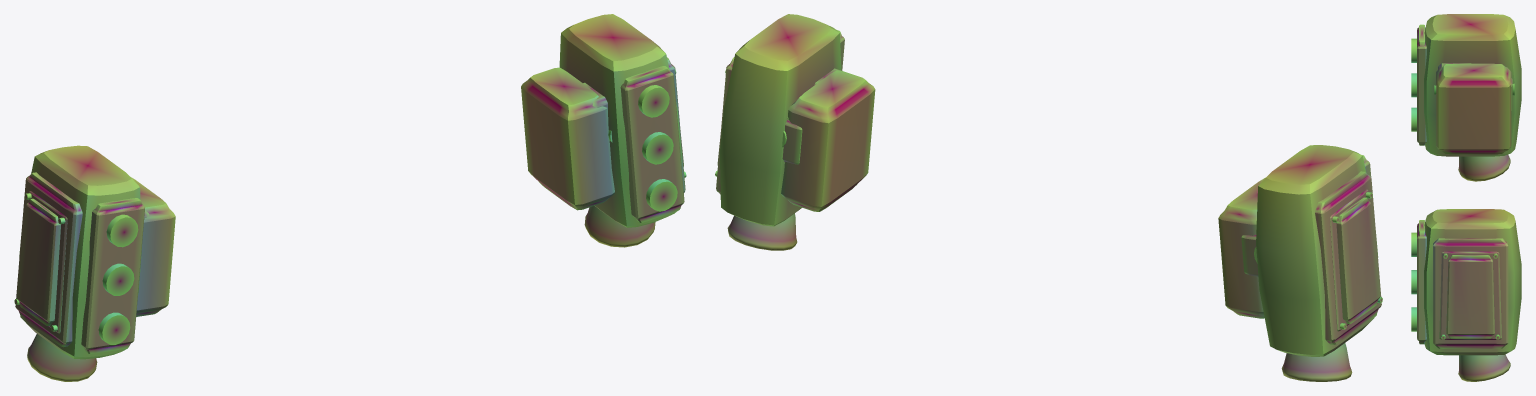
Rendered from llm_gen_leg_thrusters_056_a3c213.glb.
3 views of the same model, side by side, from view 1: azimuth 30°, elevation 25°; view 2: azimuth 150°, elevation 25°; view 3: azimuth 270°, elevation 25° (orthographic). The views are drawn at different scales.
Parts seen in each view (by area): view 1: adapter_calf_clamp_r, leg_missile_hull_0_titanium_silver_r, leg_missile_hull_0_titanium_silver_l, adapter_sub_missile_bezel_dark_1_adapter_dark_l, adapter_sub_missile_bezel_dark_1_adapter_dark_r, leg_pod_armor_cover_6_cobalt_anodized_l, adapter_calf_clamp_l, adapter_sub_side_frame_dark_5_adapter_dark_l, leg_ankle_bell_7_vernier_bell_vernier_l, leg_ankle_bell_7_vernier_bell_vernier_r, leg_cell_top_2_crimson_gloss_r, leg_cell_mid_3_crimson_gloss_r (+4 smaller); view 2: leg_missile_hull_0_titanium_silver_r, leg_missile_hull_0_titanium_silver_l, adapter_calf_clamp_r, leg_pod_armor_cover_6_cobalt_anodized_l, adapter_calf_clamp_l, adapter_sub_side_frame_dark_5_adapter_dark_l, leg_ankle_bell_7_vernier_bell_vernier_l, leg_ankle_bell_7_vernier_bell_vernier_r, adapter_leg_tank_collar_dark_9_adapter_dark_r, adapter_leg_tank_collar_dark_9_adapter_dark_l; view 3: adapter_calf_clamp_l, leg_missile_hull_0_titanium_silver_l, leg_missile_hull_0_titanium_silver_r, leg_pod_armor_cover_6_cobalt_anodized_r, adapter_sub_side_frame_dark_5_adapter_dark_r, leg_ankle_bell_7_vernier_bell_vernier_r, leg_ankle_bell_7_vernier_bell_vernier_l, adapter_sub_missile_bezel_dark_1_adapter_dark_r, adapter_sub_missile_bezel_dark_1_adapter_dark_l, leg_cell_top_2_crimson_gloss_r, leg_cell_top_2_crimson_gloss_l, leg_cell_mid_3_crimson_gloss_r (+3 smaller).
Part boxes in pixels (bbox=[...]): adapter_calf_clamp_r: bbox=[521, 67, 614, 210]; leg_missile_hull_0_titanium_silver_r: bbox=[559, 14, 681, 227]; leg_missile_hull_0_titanium_silver_l: bbox=[19, 145, 141, 359]; adapter_sub_missile_bezel_dark_1_adapter_dark_l: bbox=[81, 198, 144, 353]; adapter_sub_missile_bezel_dark_1_adapter_dark_r: bbox=[620, 66, 684, 222]; leg_pod_armor_cover_6_cobalt_anodized_l: bbox=[14, 191, 67, 333]; adapter_calf_clamp_l: bbox=[131, 177, 175, 316]; adapter_sub_side_frame_dark_5_adapter_dark_l: bbox=[15, 172, 82, 347]; leg_ankle_bell_7_vernier_bell_vernier_l: bbox=[27, 334, 97, 381]; leg_ankle_bell_7_vernier_bell_vernier_r: bbox=[584, 206, 655, 247]; leg_cell_top_2_crimson_gloss_r: bbox=[638, 85, 669, 117]; leg_cell_mid_3_crimson_gloss_r: bbox=[642, 132, 673, 164]; leg_missile_hull_0_titanium_silver_r: bbox=[719, 14, 841, 226]; leg_missile_hull_0_titanium_silver_l: bbox=[1256, 145, 1378, 356]; adapter_calf_clamp_r: bbox=[781, 70, 875, 211]; leg_pod_armor_cover_6_cobalt_anodized_l: bbox=[1330, 189, 1382, 331]; adapter_calf_clamp_l: bbox=[1218, 177, 1265, 318]; adapter_sub_side_frame_dark_5_adapter_dark_l: bbox=[1315, 171, 1381, 344]; leg_ankle_bell_7_vernier_bell_vernier_l: bbox=[1281, 343, 1352, 381]; leg_ankle_bell_7_vernier_bell_vernier_r: bbox=[727, 213, 797, 250]; adapter_leg_tank_collar_dark_9_adapter_dark_r: bbox=[782, 119, 802, 164]; adapter_leg_tank_collar_dark_9_adapter_dark_l: bbox=[1241, 234, 1258, 276]; adapter_calf_clamp_l: bbox=[1436, 63, 1511, 154]; leg_missile_hull_0_titanium_silver_l: bbox=[1424, 14, 1521, 156]; leg_missile_hull_0_titanium_silver_r: bbox=[1424, 209, 1521, 355]; leg_pod_armor_cover_6_cobalt_anodized_r: bbox=[1439, 251, 1501, 339]; adapter_sub_side_frame_dark_5_adapter_dark_r: bbox=[1433, 238, 1508, 348]; leg_ankle_bell_7_vernier_bell_vernier_r: bbox=[1458, 354, 1510, 381]; leg_ankle_bell_7_vernier_bell_vernier_l: bbox=[1458, 154, 1510, 181]; adapter_sub_missile_bezel_dark_1_adapter_dark_r: bbox=[1417, 220, 1426, 344]; adapter_sub_missile_bezel_dark_1_adapter_dark_l: bbox=[1417, 24, 1426, 145]; leg_cell_top_2_crimson_gloss_r: bbox=[1411, 232, 1416, 256]; leg_cell_top_2_crimson_gloss_l: bbox=[1411, 38, 1416, 62]; leg_cell_mid_3_crimson_gloss_r: bbox=[1411, 270, 1416, 294].
Size of the model in its own units: 81.02 by 25.43 by 16.2.
